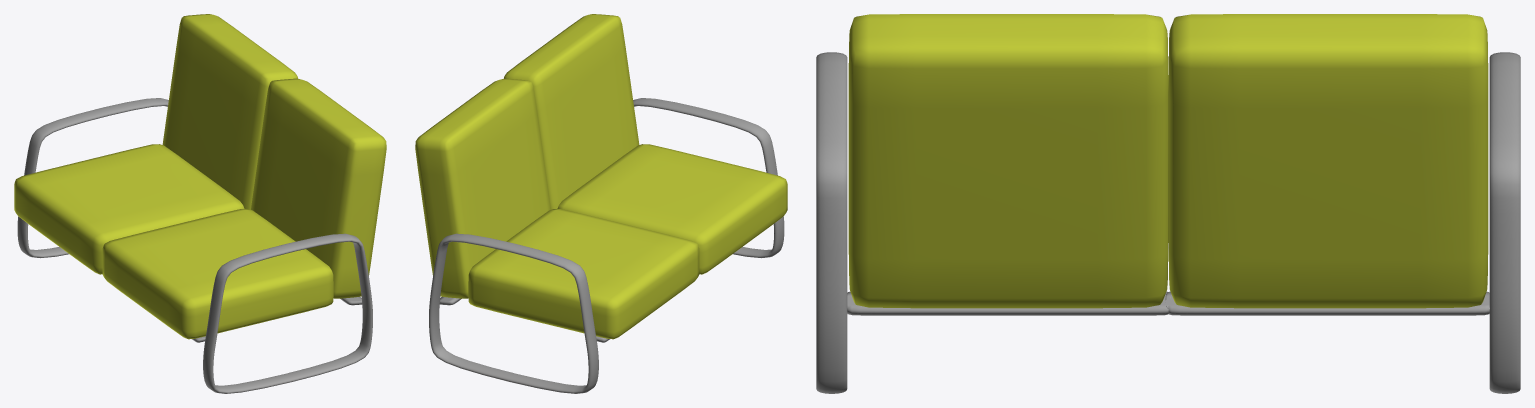
File: Double Seat03.fbx
3 renders of one model, left to right at view 1: azimuth 30°, elevation 25°; view 2: azimuth 150°, elevation 25°; view 3: azimuth 270°, elevation 25°, orthographic. The views are drawn at different scales.
Visible parts, largest first — view 1: Double Seat03; view 2: Double Seat03; view 3: Double Seat03.
Part boxes in pixels (x1=…): Double Seat03: x1=14, y1=14, x2=386, y2=393; Double Seat03: x1=415, y1=14, x2=787, y2=393; Double Seat03: x1=816, y1=14, x2=1520, y2=393.
Bounding box in the file's own units: 0.5999 × 0.9903 × 0.6111.
